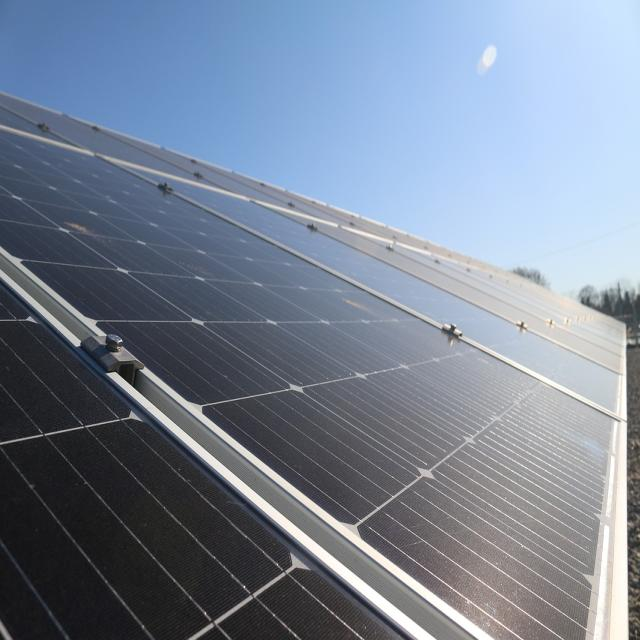clean-solar-panel: (0, 283, 396, 638)
